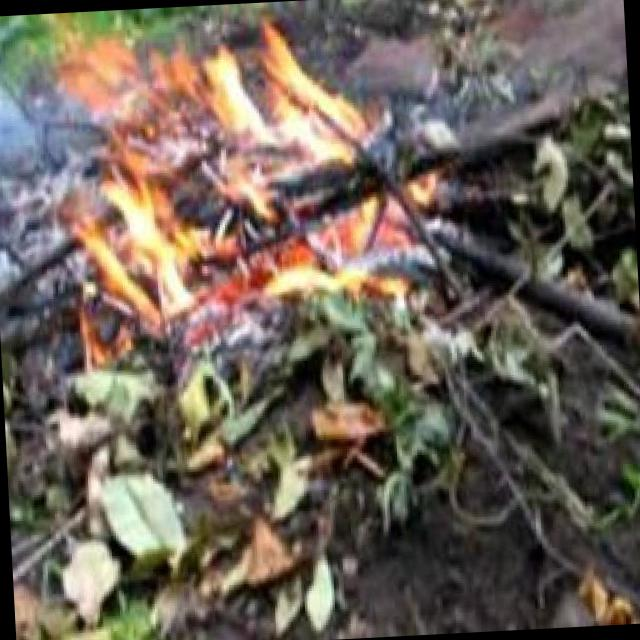Fire: (49, 9, 398, 384)
